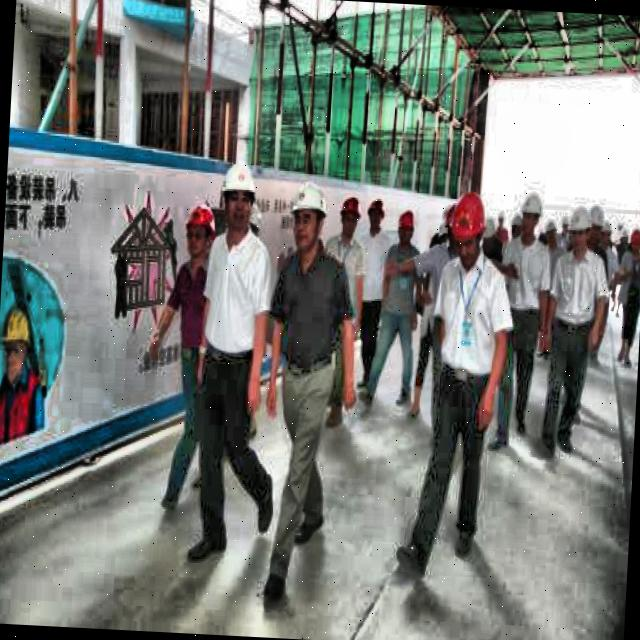helmet: (284, 175, 332, 258), (218, 154, 261, 236), (445, 187, 488, 264), (178, 198, 218, 275), (0, 302, 36, 386), (567, 203, 594, 256), (336, 192, 364, 240), (518, 190, 546, 237), (394, 205, 417, 248), (587, 202, 608, 248), (366, 195, 388, 232)
